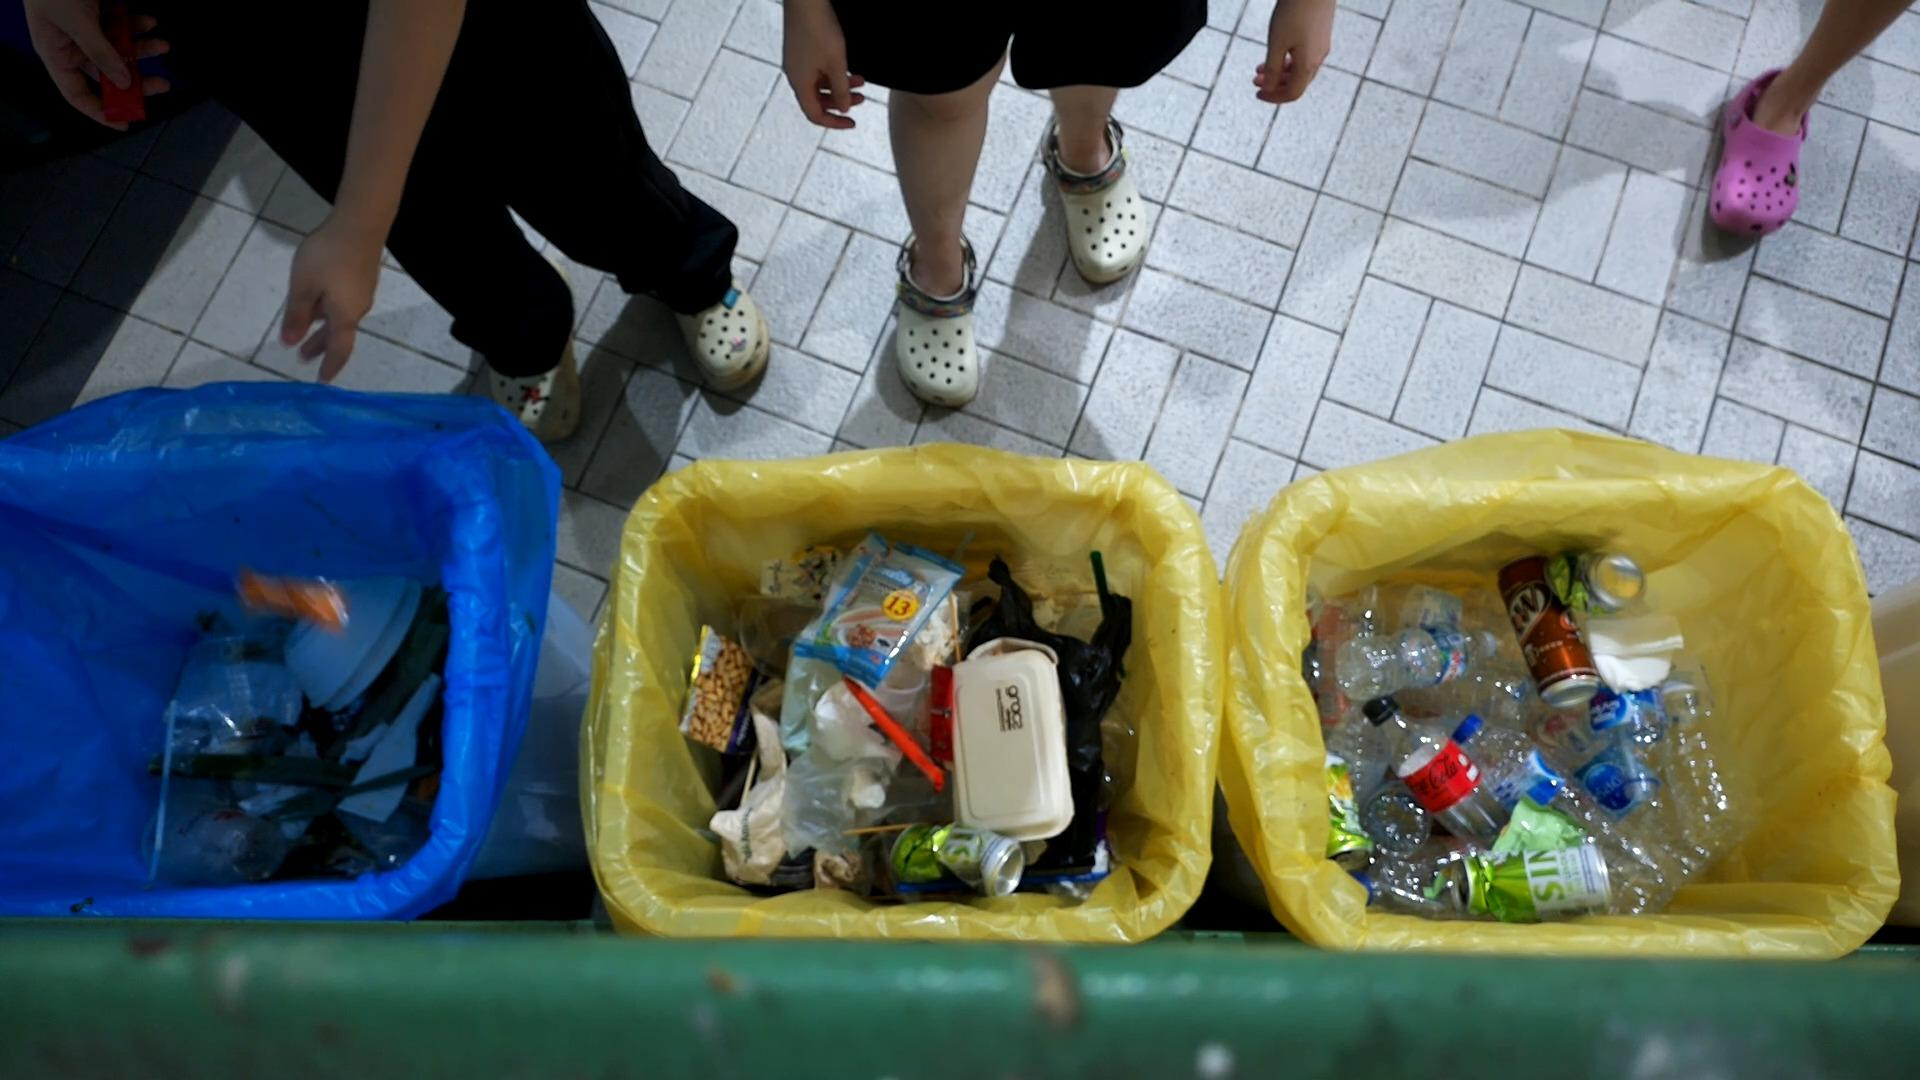can: (1487, 550, 1602, 715), (1451, 833, 1625, 924), (877, 812, 1029, 905), (1534, 534, 1658, 633), (1315, 745, 1389, 884)
food container: (924, 641, 1079, 848), (270, 559, 409, 712), (866, 654, 931, 716)
plastic bottle: (1452, 709, 1702, 915), (1642, 615, 1767, 857), (1353, 692, 1523, 847), (1327, 622, 1493, 707)
plastic cup: (136, 786, 293, 886), (190, 629, 280, 753)
plastic cutlery: (270, 760, 434, 835)
snack packaging: (791, 535, 973, 688), (682, 622, 781, 765), (848, 669, 947, 794), (229, 559, 356, 636), (87, 9, 156, 146), (920, 662, 967, 765)
straw: (149, 699, 167, 856)
tissue paper: (319, 669, 442, 829), (1575, 600, 1704, 713), (909, 570, 964, 666), (814, 666, 882, 741)
